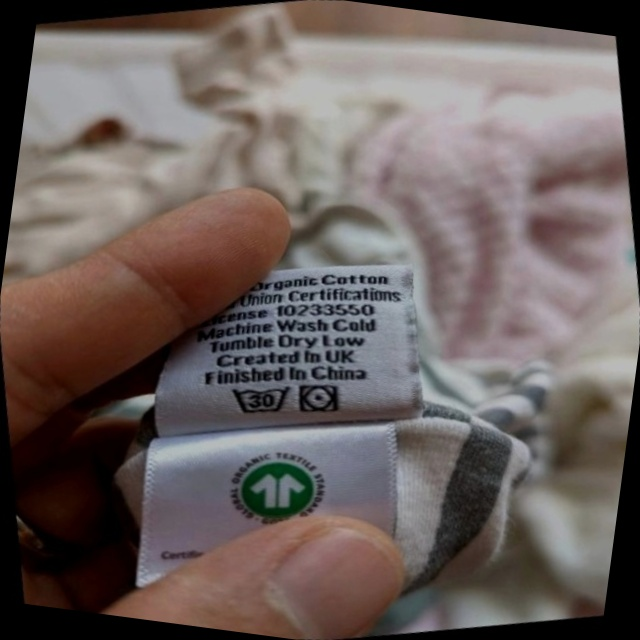30C: (221, 371, 299, 428)
tumble_dry_low: (291, 373, 348, 424)
